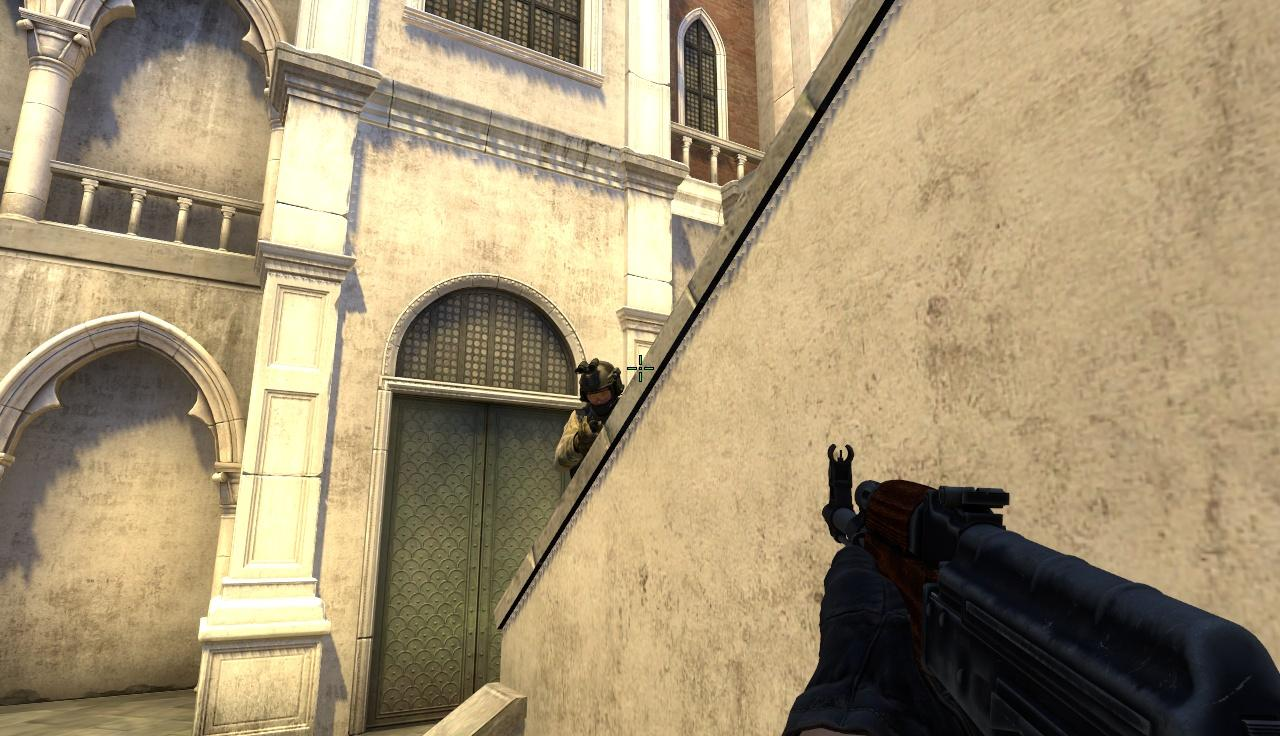ct: (561, 358, 625, 469)
cthead: (575, 359, 625, 413)
rifle: (819, 442, 1280, 736)
